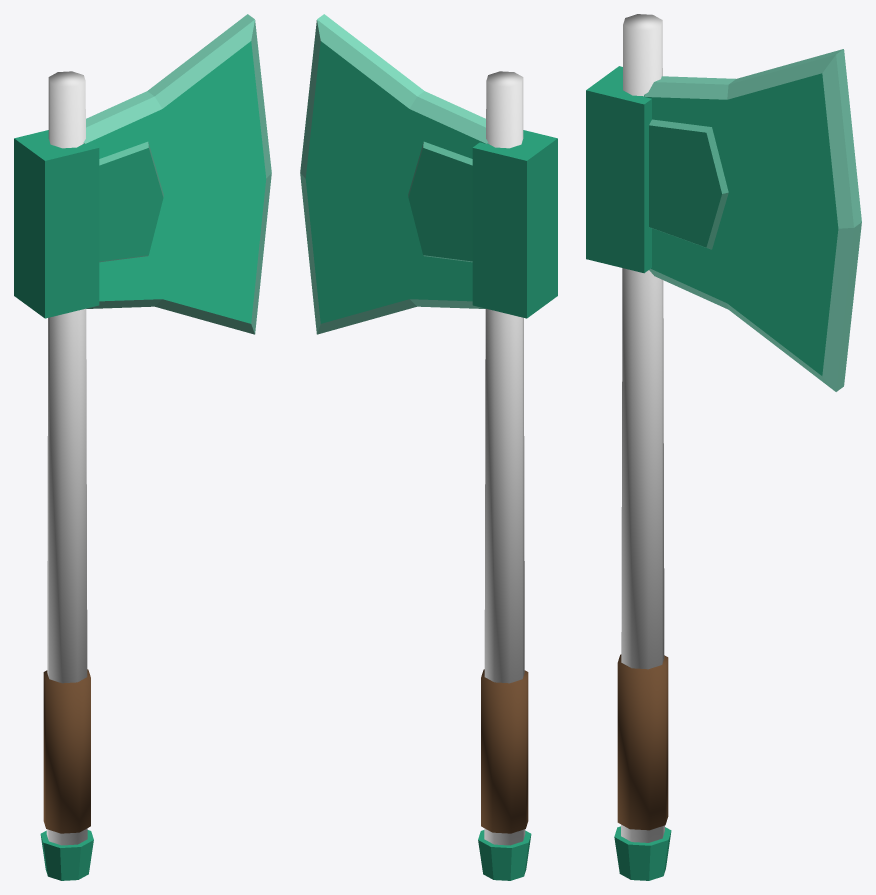
File: vortex_hamaxe.glb
The picture shows the model from 3 angles, left to right: view 1: azimuth 30°, elevation 25°; view 2: azimuth 150°, elevation 25°; view 3: azimuth 330°, elevation 25°; orthographic projection. The views are drawn at different scales.
Parts seen in each view (by area): view 1: vortex_hamaxe_v0; view 2: vortex_hamaxe_v0; view 3: vortex_hamaxe_v0.
Part boxes in pixels (x1=…): vortex_hamaxe_v0: x1=14, y1=14, x2=271, y2=880; vortex_hamaxe_v0: x1=300, y1=14, x2=557, y2=880; vortex_hamaxe_v0: x1=586, y1=14, x2=861, y2=880.
Bounding box in the file's own units: 0.285 × 0.925 × 0.064.
